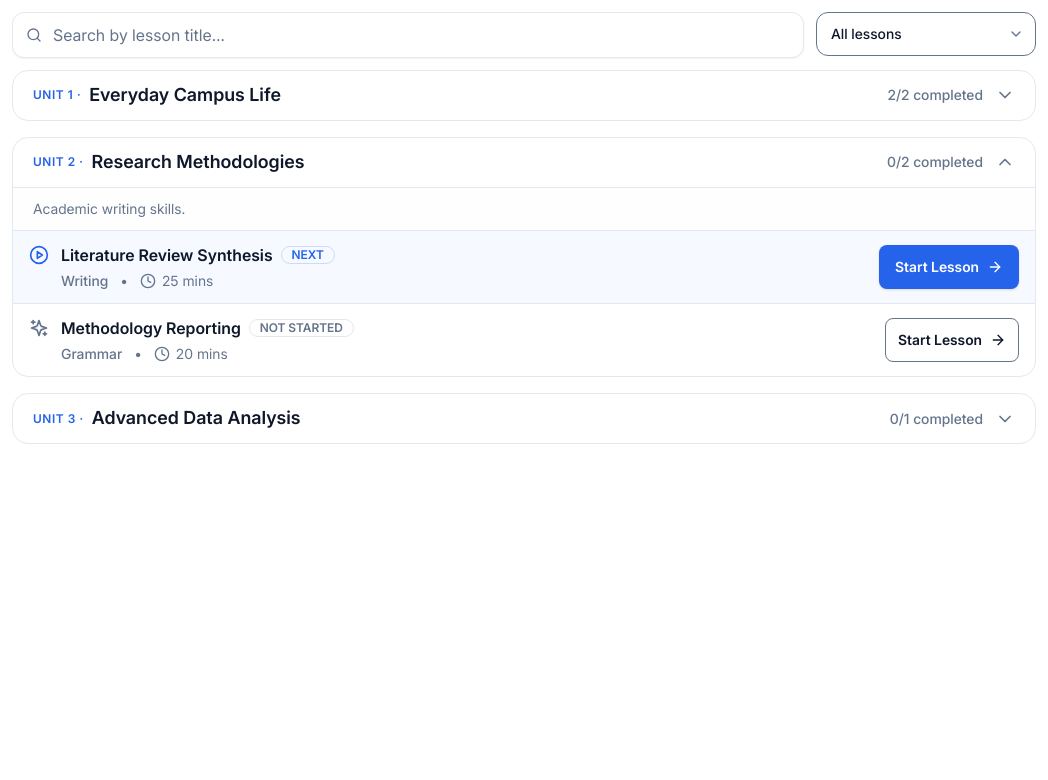
Test: LearnPage (P10.2) › keeps the search status region in the DOM before typing and updates its count after typing
The width and height of the screenshot is (1048, 780).
Type "findings" into the search field named "search lessons".
click(408, 35); type("findings")  # box [12,12,804,58]
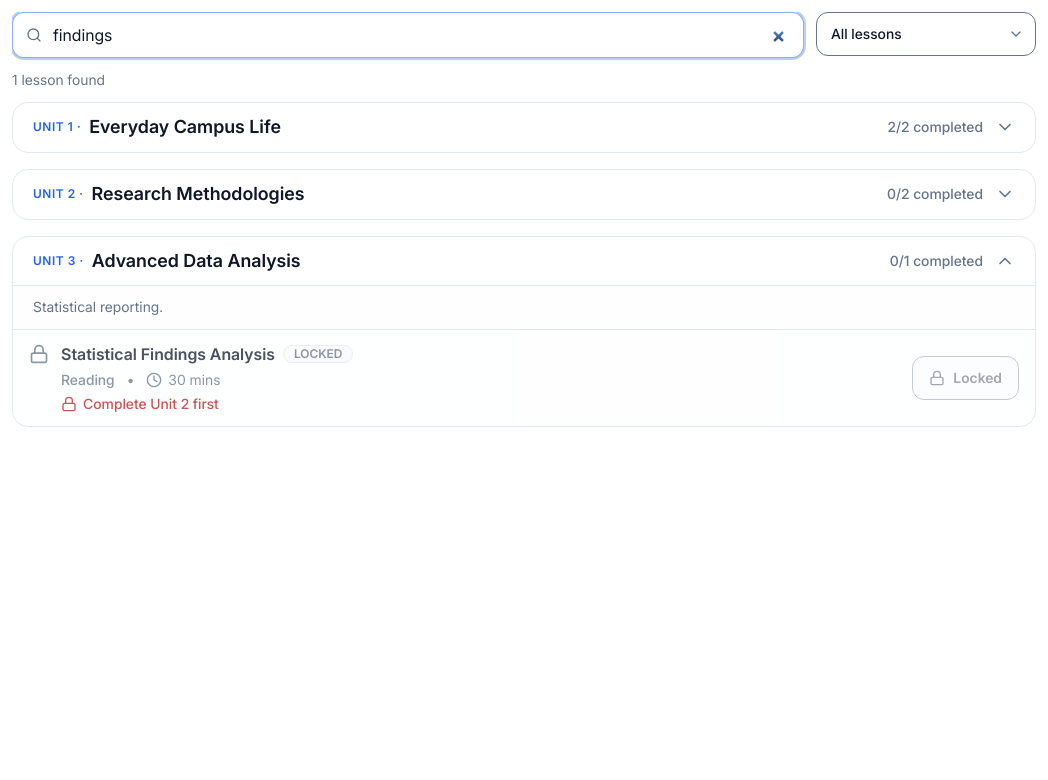
Expected: the message reads "1 lesson found", [12,71,105,88]
Replace the text in the search field named "search lessons" with "ing" at (408, 35), box [12,12,804,58]
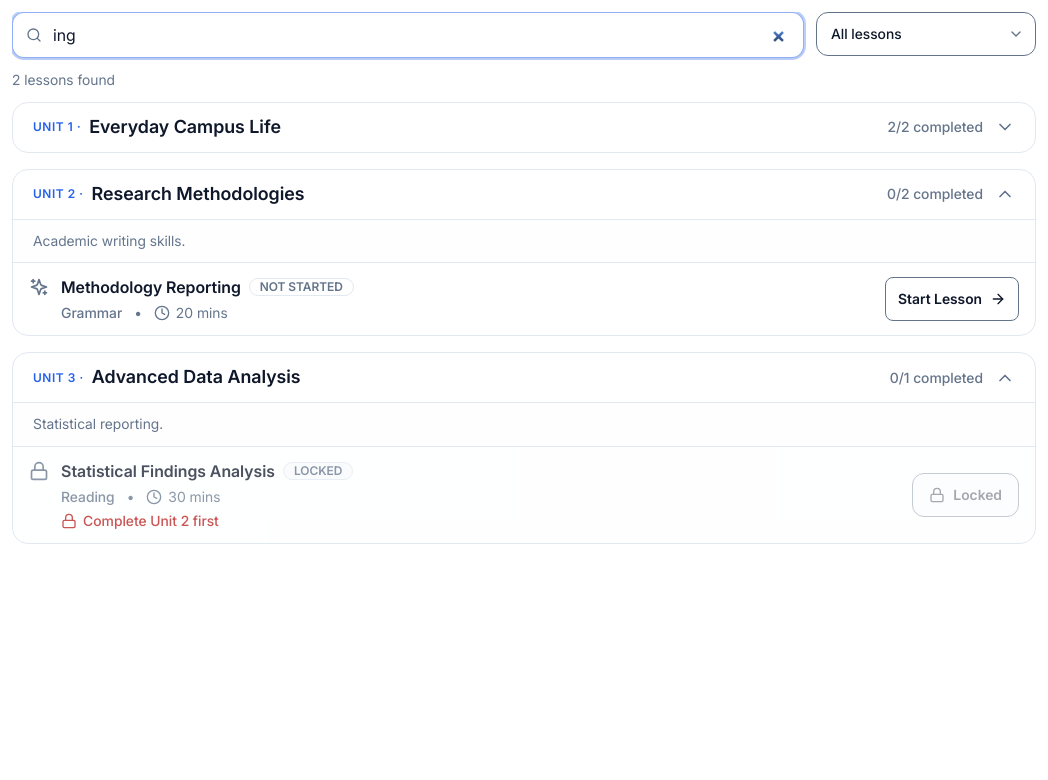
Expected: the message reads "2 lessons found", [12,71,115,88]
